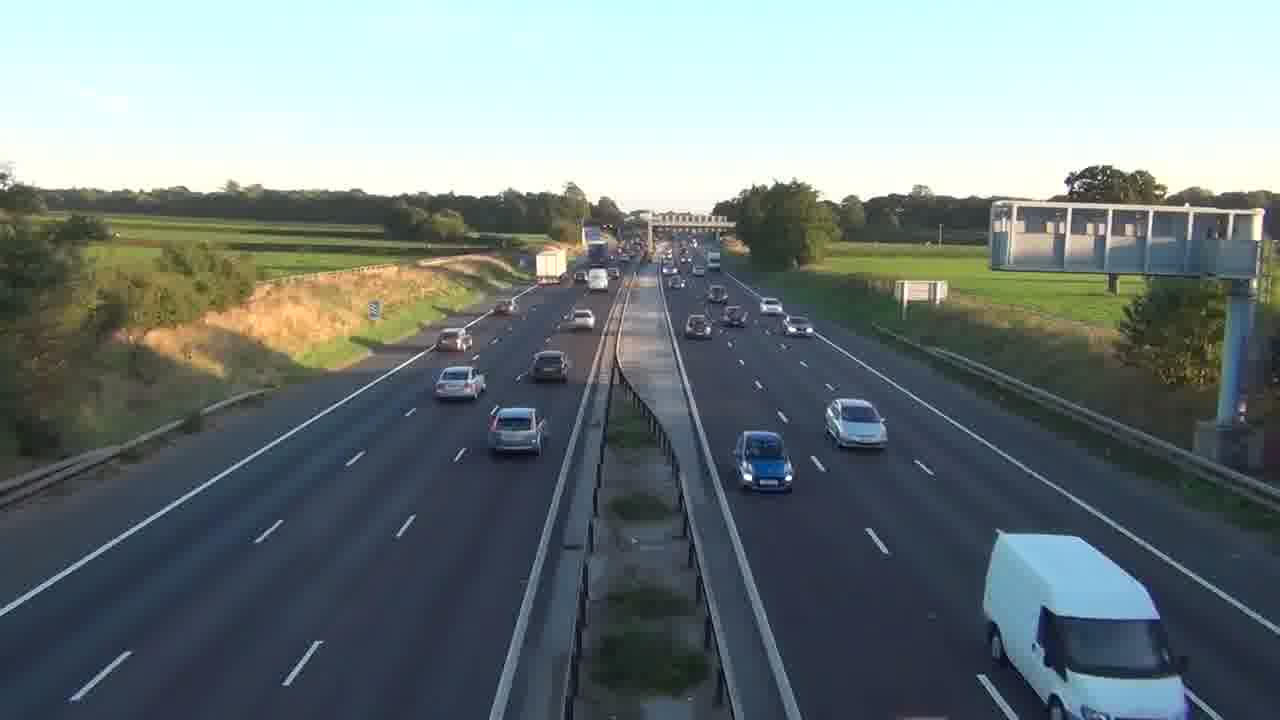car: (733, 429, 796, 493), (824, 397, 888, 451), (487, 405, 549, 456), (432, 365, 486, 402), (530, 350, 568, 383), (570, 307, 596, 331)
truck: (980, 528, 1224, 718)
